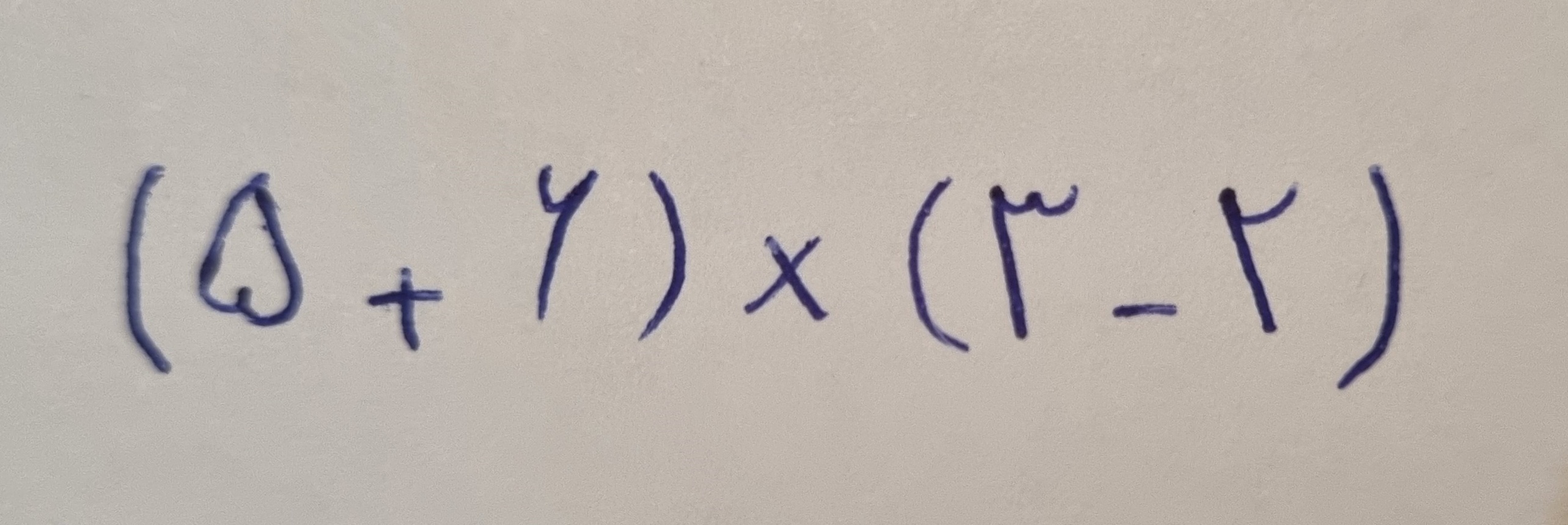character: (196, 172, 303, 330), (1333, 164, 1404, 391), (988, 184, 1079, 341), (1220, 184, 1298, 333), (908, 176, 972, 353), (529, 164, 598, 323), (124, 162, 174, 375), (637, 167, 687, 341), (742, 233, 831, 323), (365, 266, 444, 353), (1112, 301, 1179, 321)
